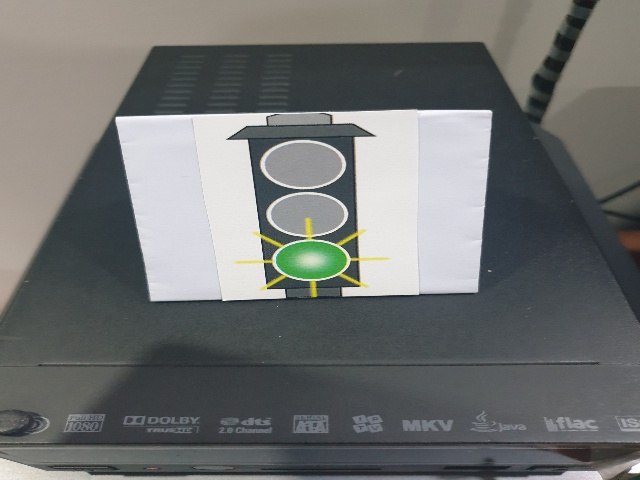Green Light: (225, 112, 391, 299)
